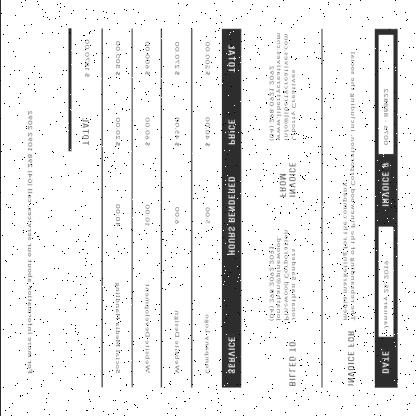Paragraph: (340, 49, 358, 390), (264, 226, 299, 389), (266, 30, 298, 200), (23, 107, 34, 377), (76, 32, 92, 152), (378, 86, 392, 209), (380, 258, 390, 376)
Table: (100, 27, 240, 388)
